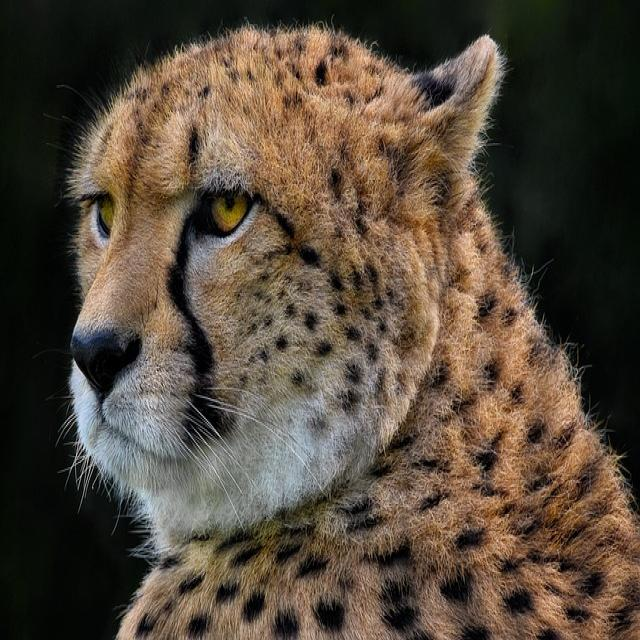Carnivorous: (59, 25, 640, 640)
